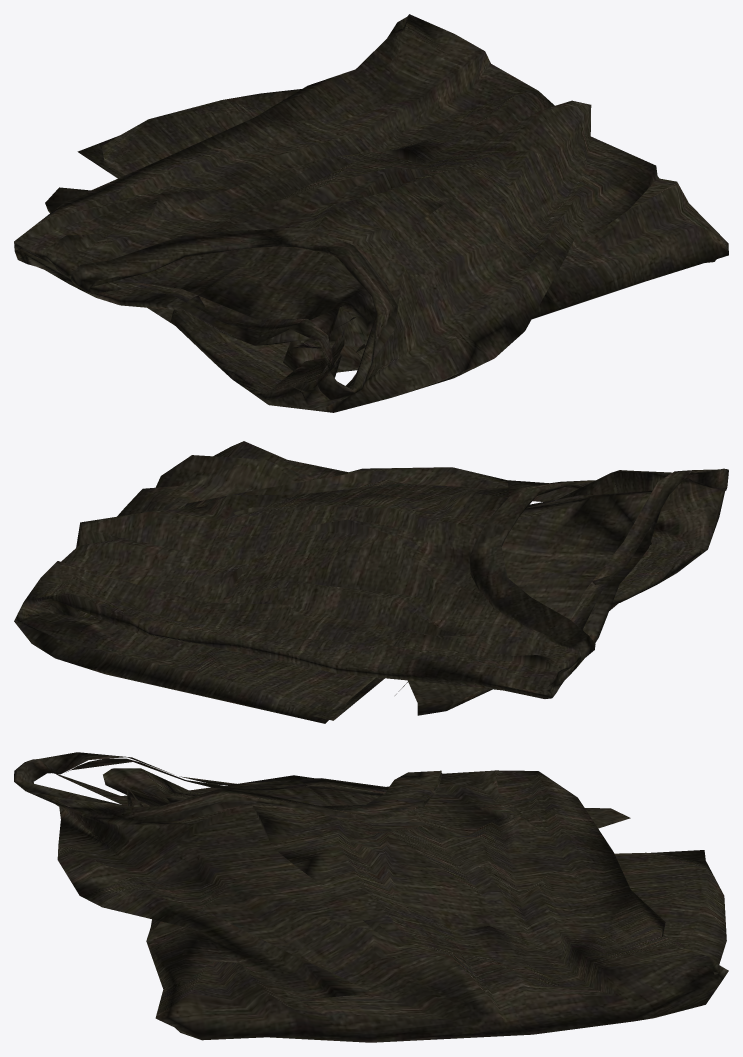
Rendered from hvfold_Line154.glb.
The picture shows the model from 3 angles, top to bottom: view 1: azimuth 30°, elevation 25°; view 2: azimuth 150°, elevation 25°; view 3: azimuth 270°, elevation 25°; orthographic projection. The views are drawn at different scales.
Visible parts, largest first — view 1: BP_Line154; view 2: BP_Line154; view 3: BP_Line154.
Boxes of the visible parts, x1=… form: BP_Line154: x1=14, y1=14, x2=728, y2=412; BP_Line154: x1=14, y1=441, x2=728, y2=723; BP_Line154: x1=14, y1=752, x2=728, y2=1042.
Size of the model in its own units: 0.2558 by 0.0345 by 0.2913.
Materials: 1 (1 with a texture image).
